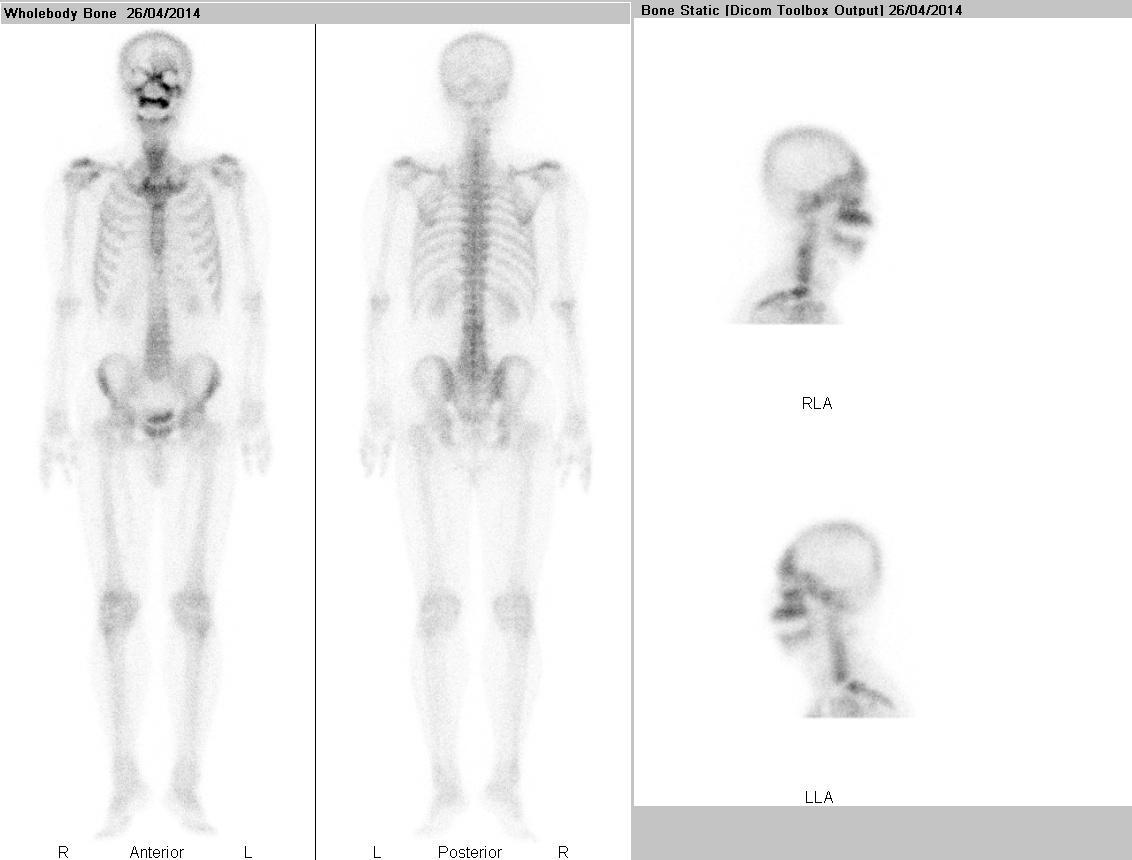person: (2, 25, 632, 859)
